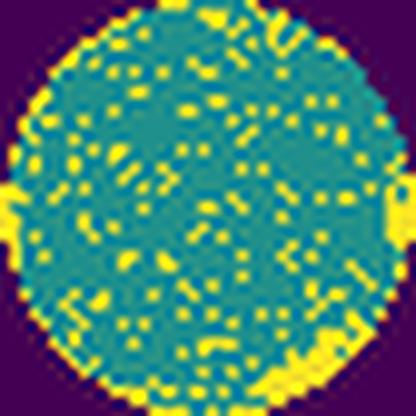Edge-Loc: (219, 299, 387, 416), (374, 148, 415, 259), (0, 174, 33, 274)
